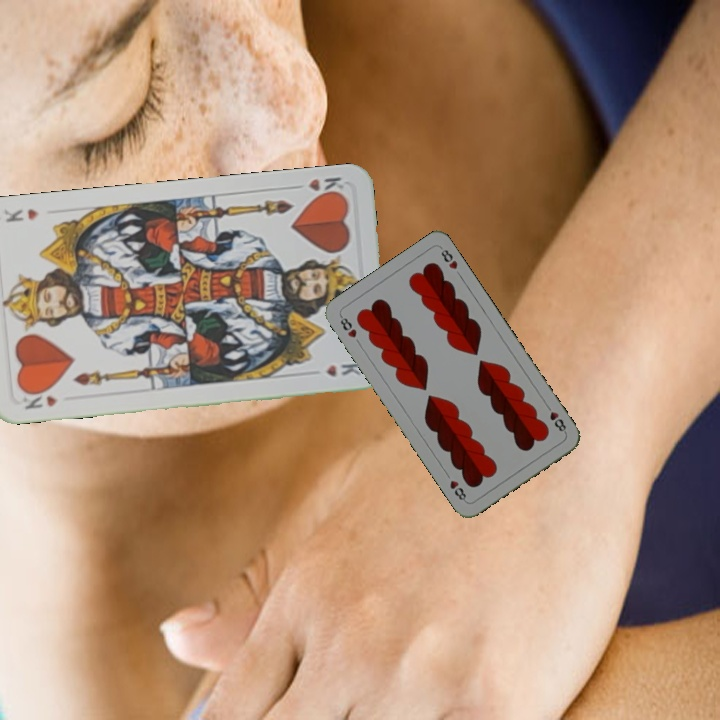H8: (541, 400, 569, 436), (336, 311, 359, 341)
HK: (288, 172, 347, 201), (19, 385, 60, 412)
